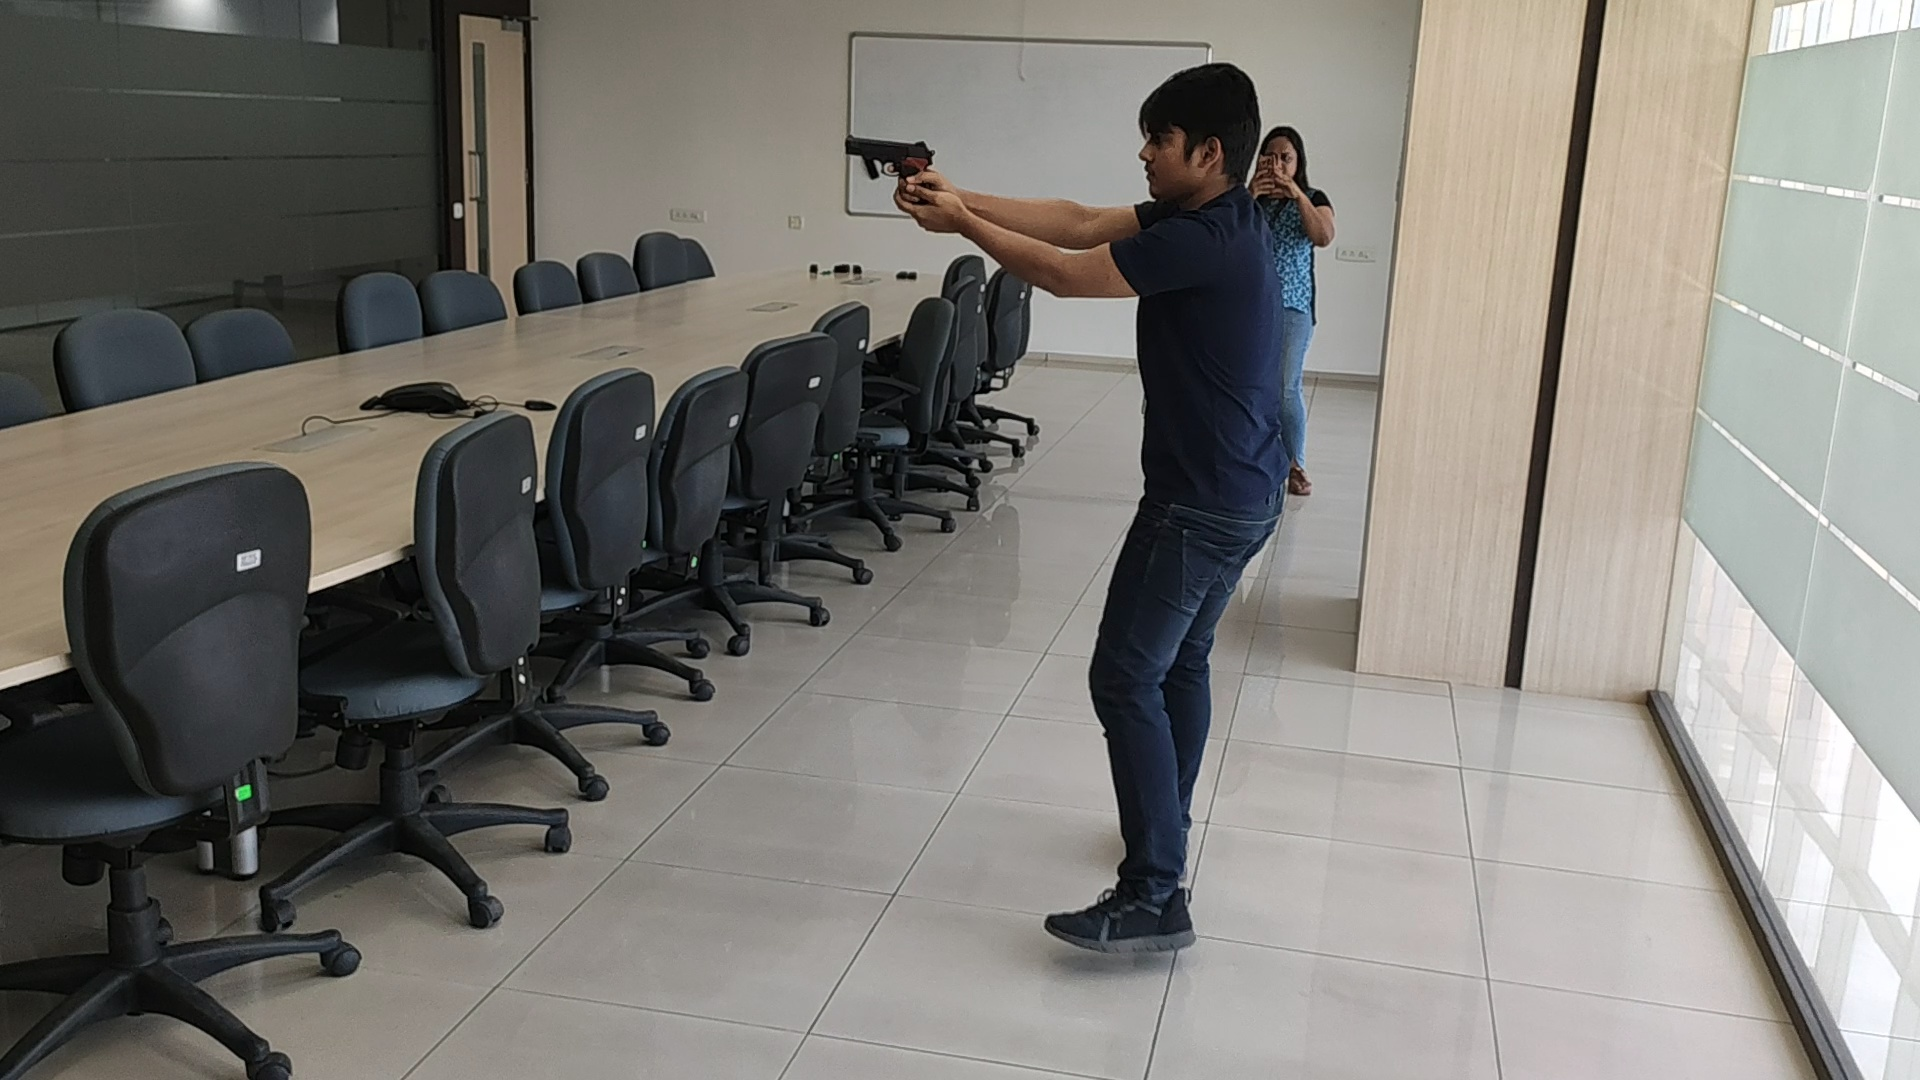gun: (845, 135, 938, 179)
